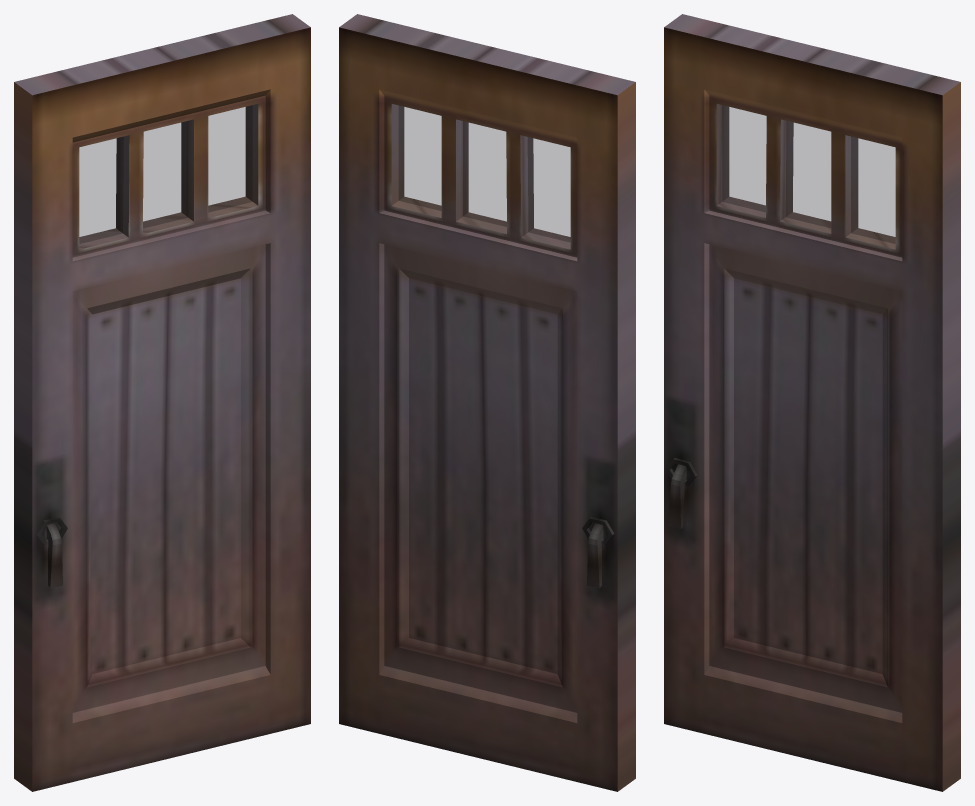
The model's file is front_door.glb.
3 views of the same model, side by side, from view 1: azimuth 30°, elevation 25°; view 2: azimuth 150°, elevation 25°; view 3: azimuth 330°, elevation 25° (orthographic).
Visible parts, largest first — view 1: Front Door_006.001, Door Handle.020; view 2: Front Door_006.001, Door Handle.020; view 3: Front Door_006.001, Door Handle.020.
Boxes of the visible parts, x1=… form: Front Door_006.001: x1=14, y1=14, x2=310, y2=791; Door Handle.020: x1=35, y1=517, x2=67, y2=588; Front Door_006.001: x1=339, y1=14, x2=635, y2=791; Door Handle.020: x1=582, y1=517, x2=614, y2=588; Front Door_006.001: x1=664, y1=14, x2=960, y2=791; Door Handle.020: x1=665, y1=458, x2=697, y2=528.
Bounding box in the file's own units: 0.8257 × 1.97 × 0.1646.
Materials: 2 (1 with a texture image).
